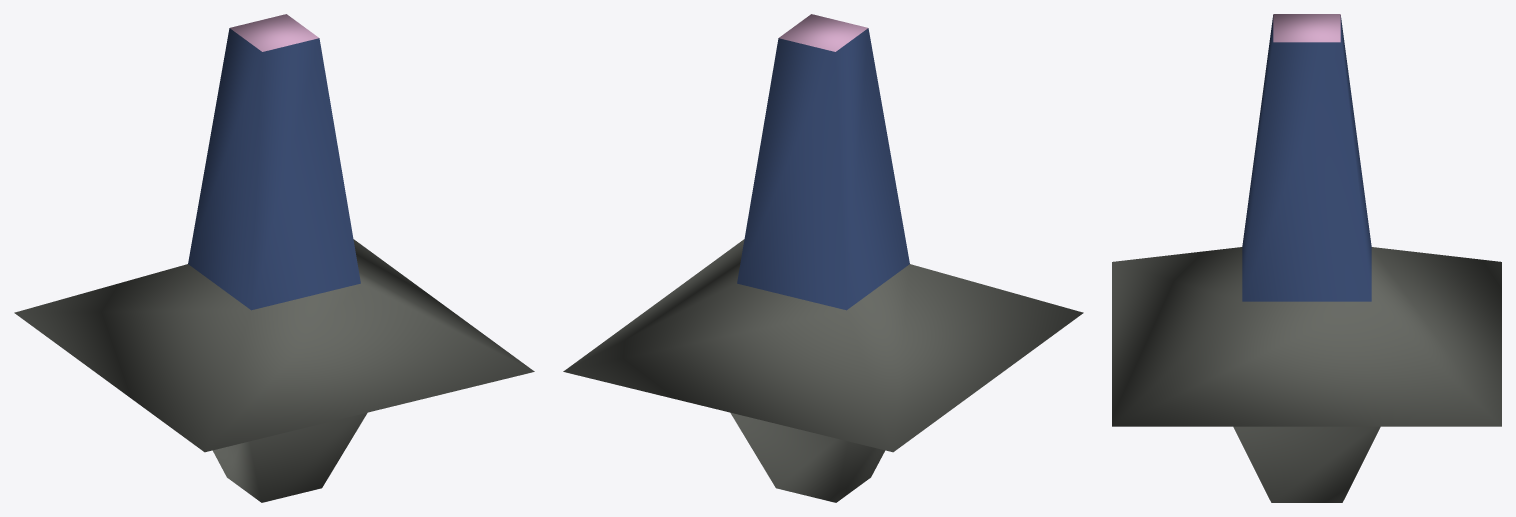
File: hopper.fbx
The picture shows the model from 3 angles, left to right: view 1: azimuth 30°, elevation 25°; view 2: azimuth 150°, elevation 25°; view 3: azimuth 270°, elevation 25°; orthographic projection. The views are drawn at different scales.
Visible parts, largest first — view 1: Wiper; view 2: Wiper; view 3: Wiper.
Part boxes in pixels (x1,y1,x2,y2): Wiper: (14, 14, 534, 502); Wiper: (563, 14, 1083, 502); Wiper: (1112, 14, 1501, 502).
Size of the model in its own units: 0.1714 by 0.223 by 0.1714.
